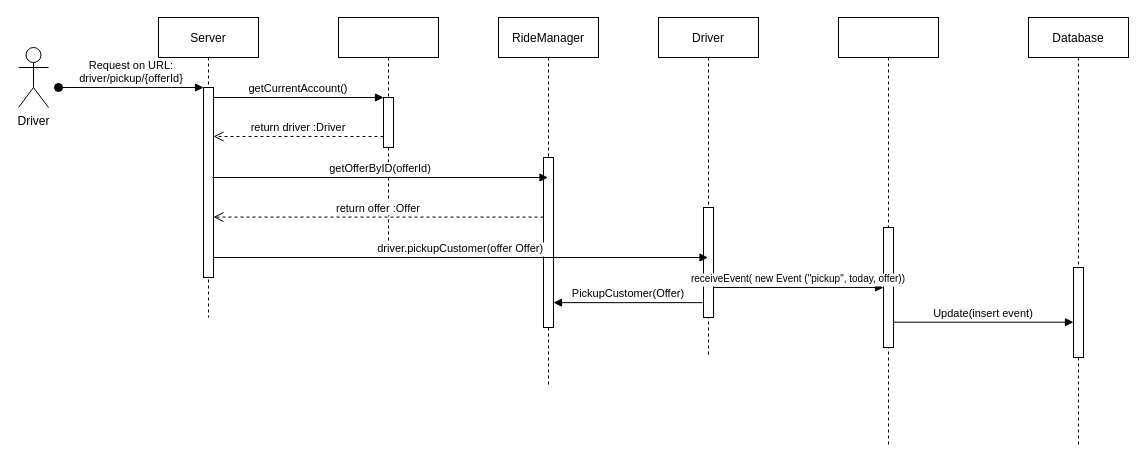
This 1146x465 diagram has some shape labels left out. Here are the shapes that lost their labels. From the top down, the centre of each, then its label:
At point 388,132: "Authentication Manager".
At point 888,232: "EventManager".
